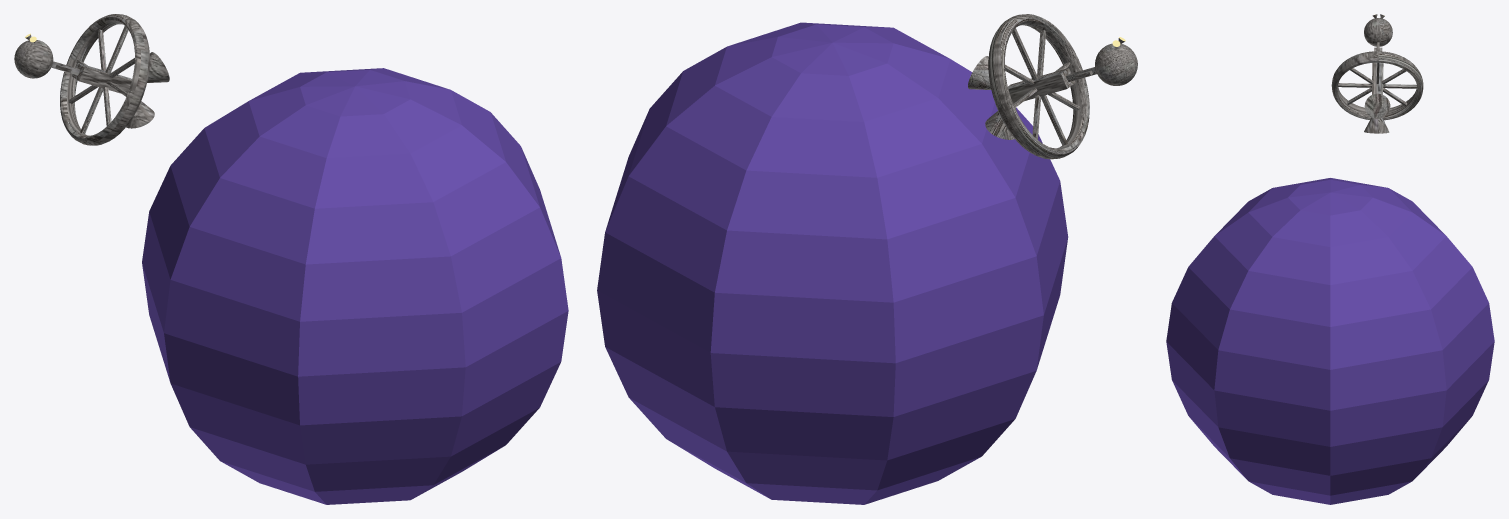
3 renders of one model, left to right at view 1: azimuth 30°, elevation 25°; view 2: azimuth 150°, elevation 25°; view 3: azimuth 270°, elevation 25°, orthographic. The views are drawn at different scales.
Parts seen in each view (by area): view 1: Sphere, Cube.007; view 2: Sphere, Cube.007; view 3: Sphere, Cube.007.
Boxes of the visible parts, x1=… form: Sphere: x1=142, y1=68, x2=568, y2=504; Cube.007: x1=14, y1=14, x2=169, y2=145; Sphere: x1=597, y1=22, x2=1068, y2=504; Cube.007: x1=968, y1=14, x2=1137, y2=159; Sphere: x1=1166, y1=178, x2=1494, y2=504; Cube.007: x1=1331, y1=14, x2=1423, y2=133.
Size of the model in its own units: 77.18 by 73.91 by 59.37.
Materials: 3 (1 with a texture image).
